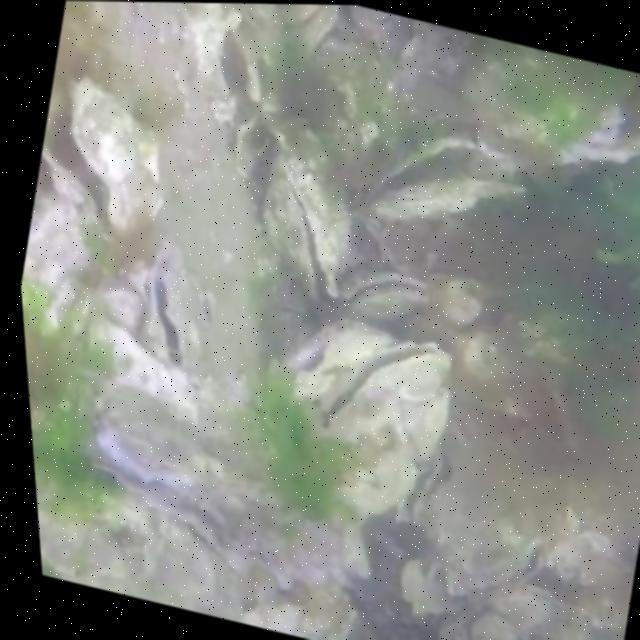Oyster-Closed: (280, 317, 398, 399), (344, 272, 426, 325)
Oyster-Indeterminate: (35, 472, 153, 580), (392, 18, 475, 95), (548, 531, 623, 585), (403, 558, 465, 615), (286, 5, 341, 53), (467, 610, 516, 640), (280, 4, 317, 31)
Oyster-Open: (79, 379, 354, 593), (43, 81, 160, 242), (427, 474, 550, 609), (352, 137, 524, 219), (264, 145, 346, 302), (318, 344, 450, 440), (140, 245, 211, 372)
